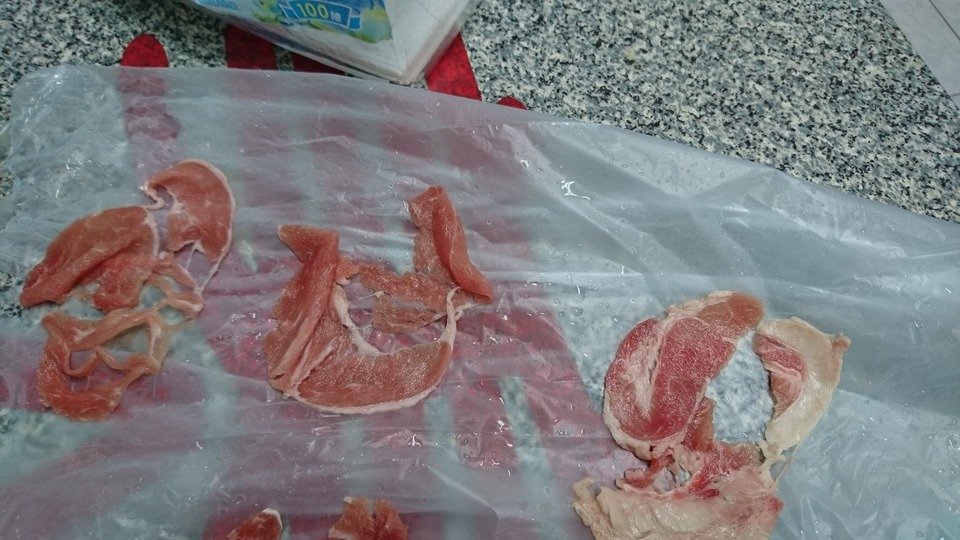restructured meat: (580, 291, 851, 540), (22, 157, 238, 429), (270, 179, 501, 415)
